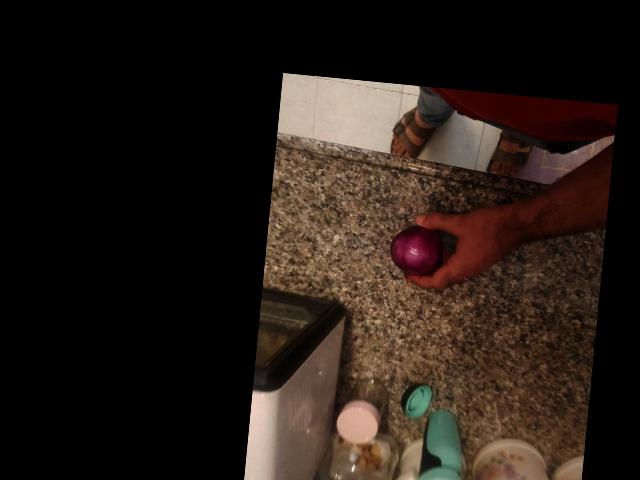onion: (390, 219, 453, 278)
